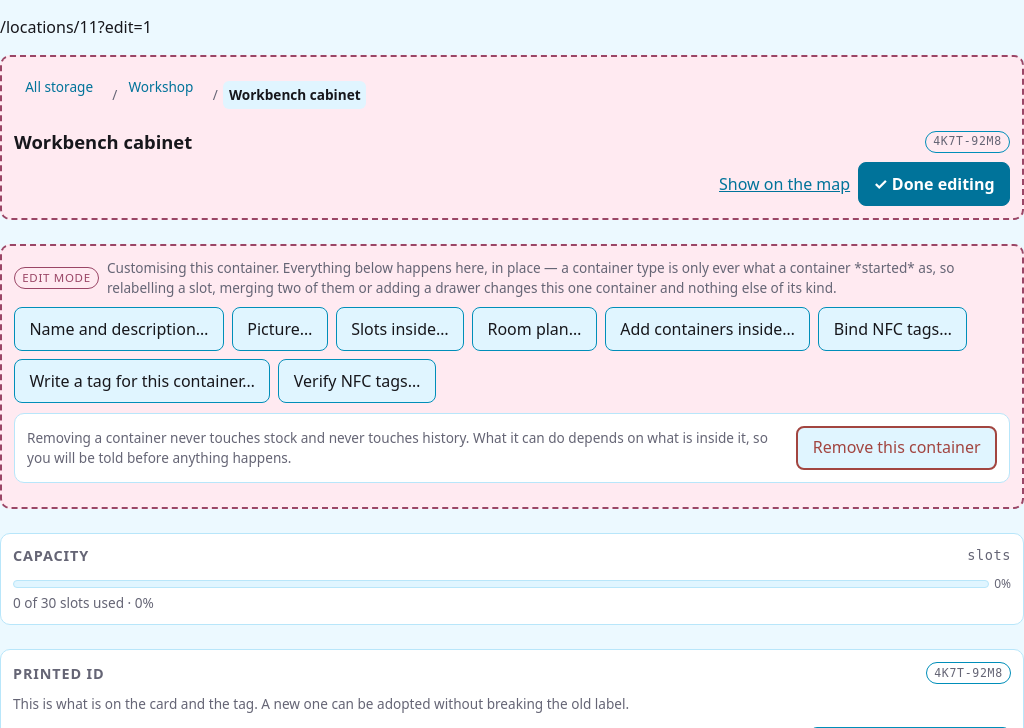
renames a container where it stands
Click the button "Name and description…": x=119, y=330 left=14, top=308, right=224, bottom=352
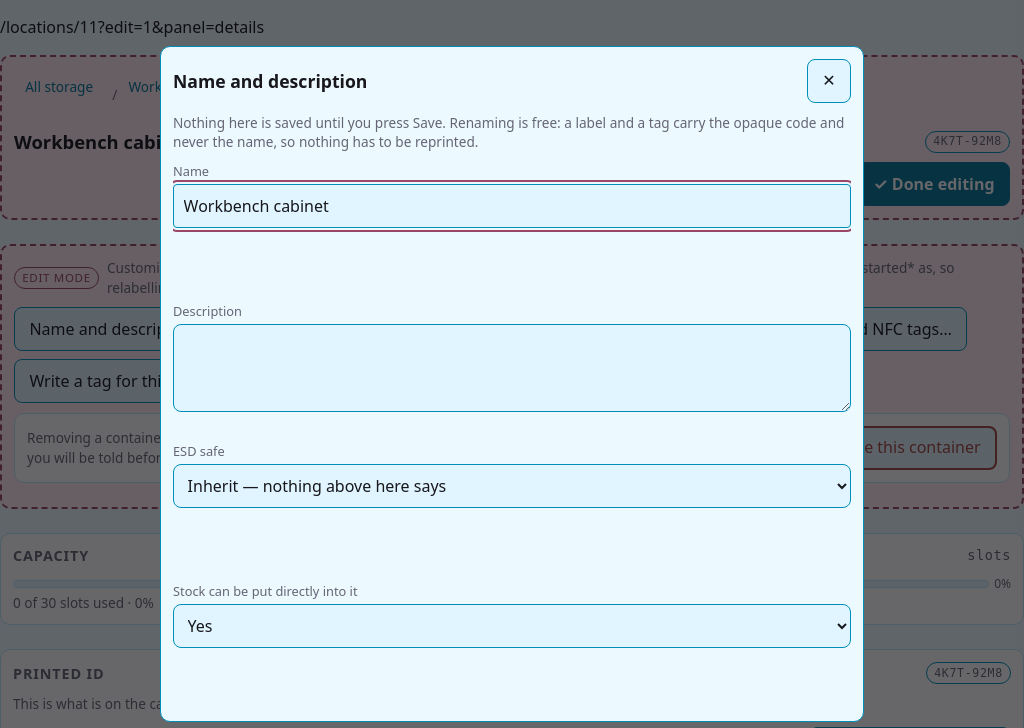
Replace the text in the field labelled "Name" with "Bench cabinet": x=512, y=206 left=173, top=184, right=851, bottom=228
(page scrolled)
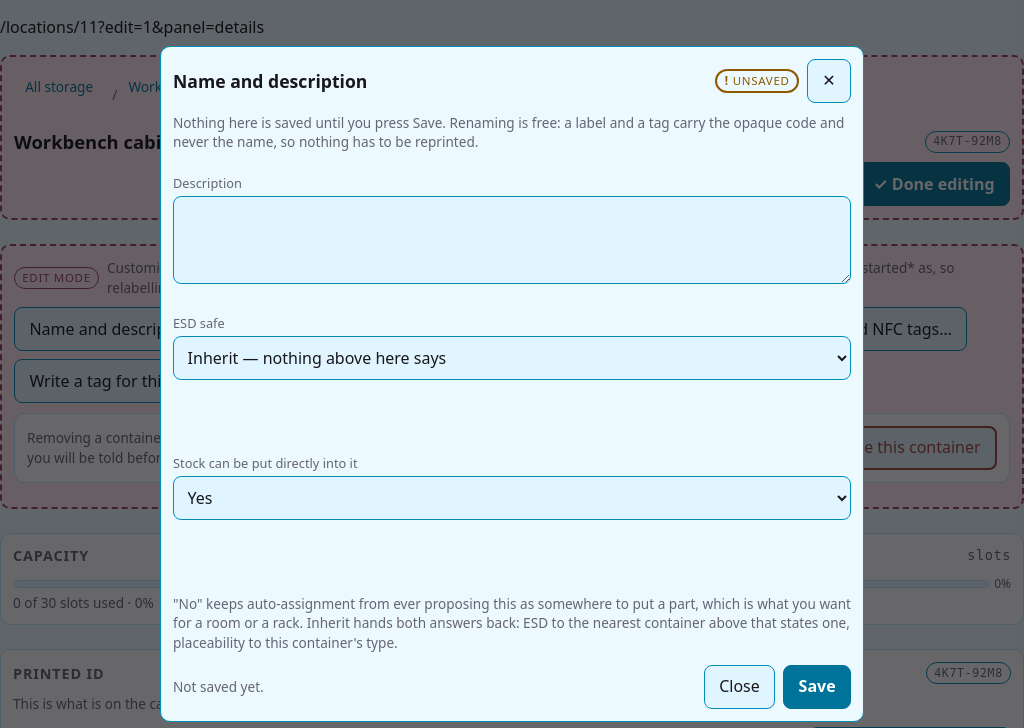
Click the button "Save": x=817, y=687 left=783, top=665, right=851, bottom=709
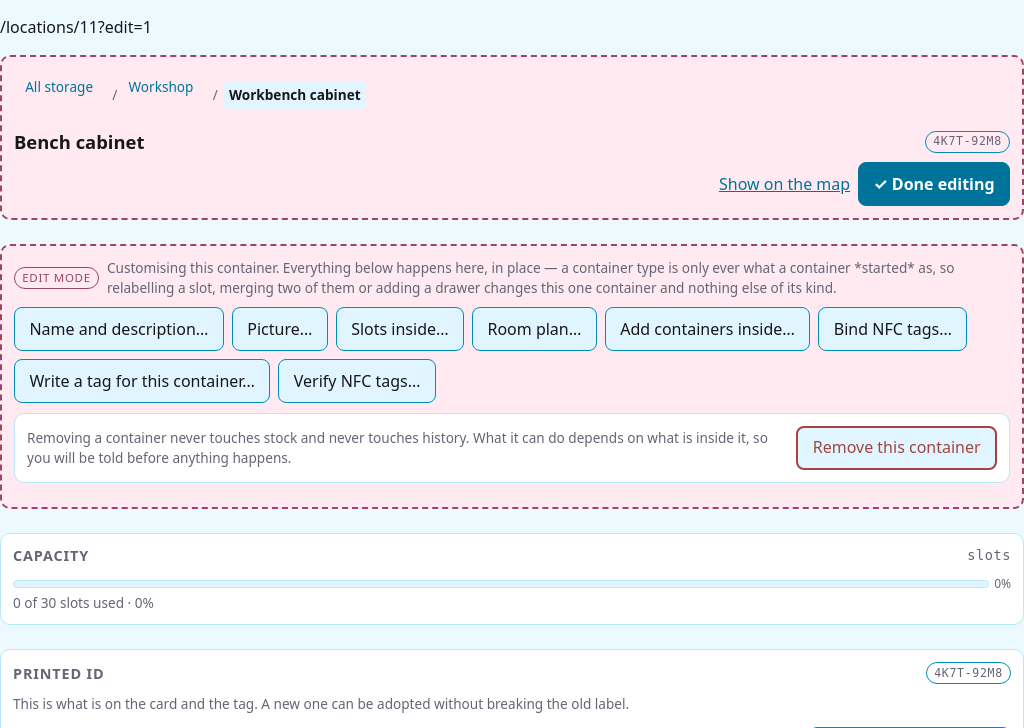
Check: the heading "Bench cabinet" is shown, box left=14, top=129, right=144, bottom=154
Check: the dialog is gone
